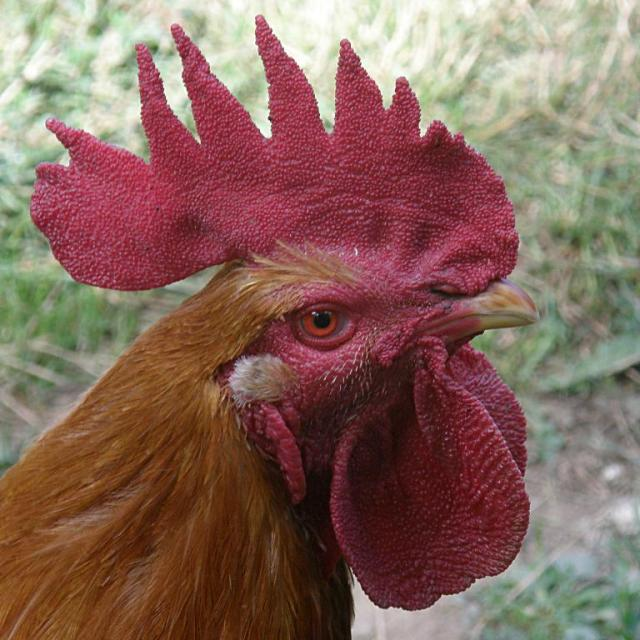Chicken: (0, 22, 580, 640)
